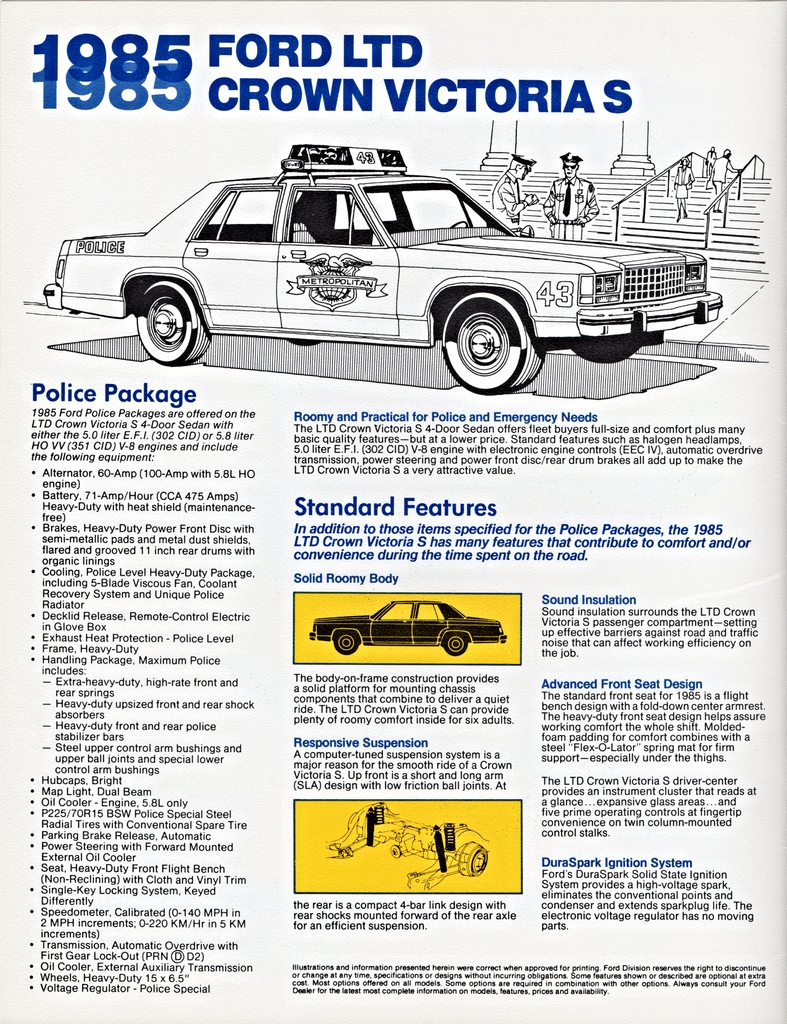Car: (39, 149, 731, 376)
